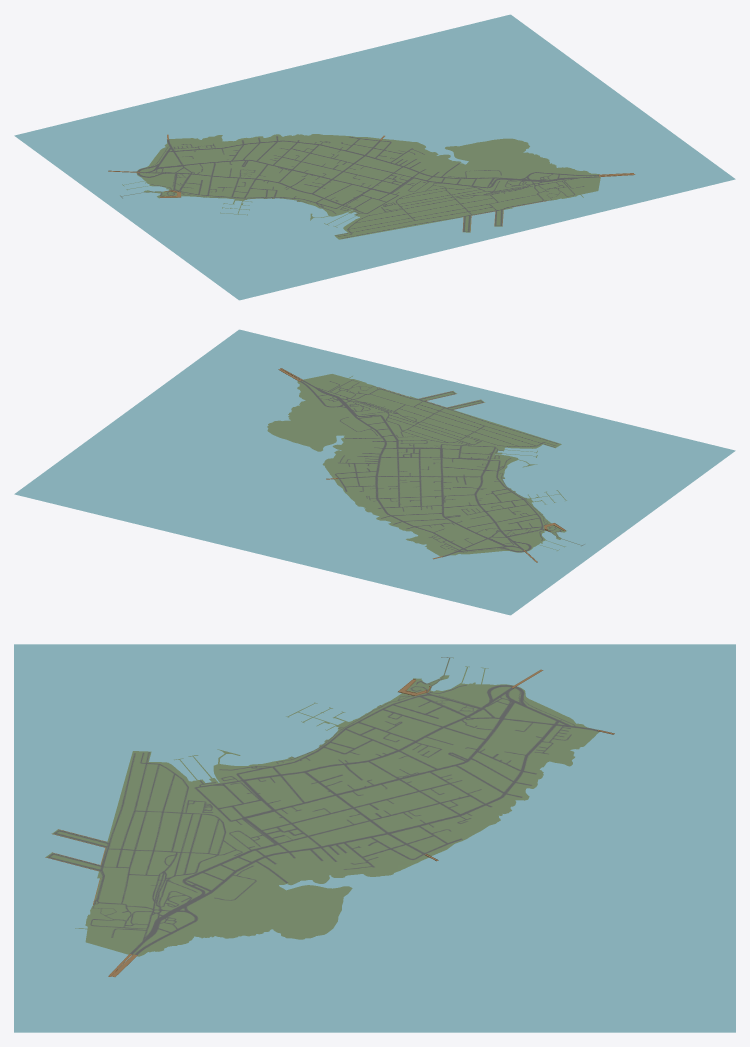
Rendered from manga-contract.glb.
The picture shows the model from 3 angles, top to bottom: view 1: azimuth 30°, elevation 25°; view 2: azimuth 150°, elevation 25°; view 3: azimuth 270°, elevation 25°; orthographic projection. The views are drawn at different scales.
Visible parts, largest first — view 1: WaterLevel_Animated, Manga_Terrain_Base; view 2: WaterLevel_Animated, Manga_Terrain_Base; view 3: WaterLevel_Animated, Manga_Terrain_Base.
Boxes of the visible parts, left/top/right/bottom form: WaterLevel_Animated: left=14, top=14, right=735, bottom=300; Manga_Terrain_Base: left=120, top=134, right=600, bottom=239; WaterLevel_Animated: left=14, top=329, right=735, bottom=615; Manga_Terrain_Base: left=267, top=374, right=584, bottom=557; WaterLevel_Animated: left=14, top=644, right=735, bottom=1032; Manga_Terrain_Base: left=46, top=657, right=599, bottom=956.
Size of what is drawn, in the model's own units: 2947 by 3.5 by 2315.
Materials: 2 (1 with a texture image).
